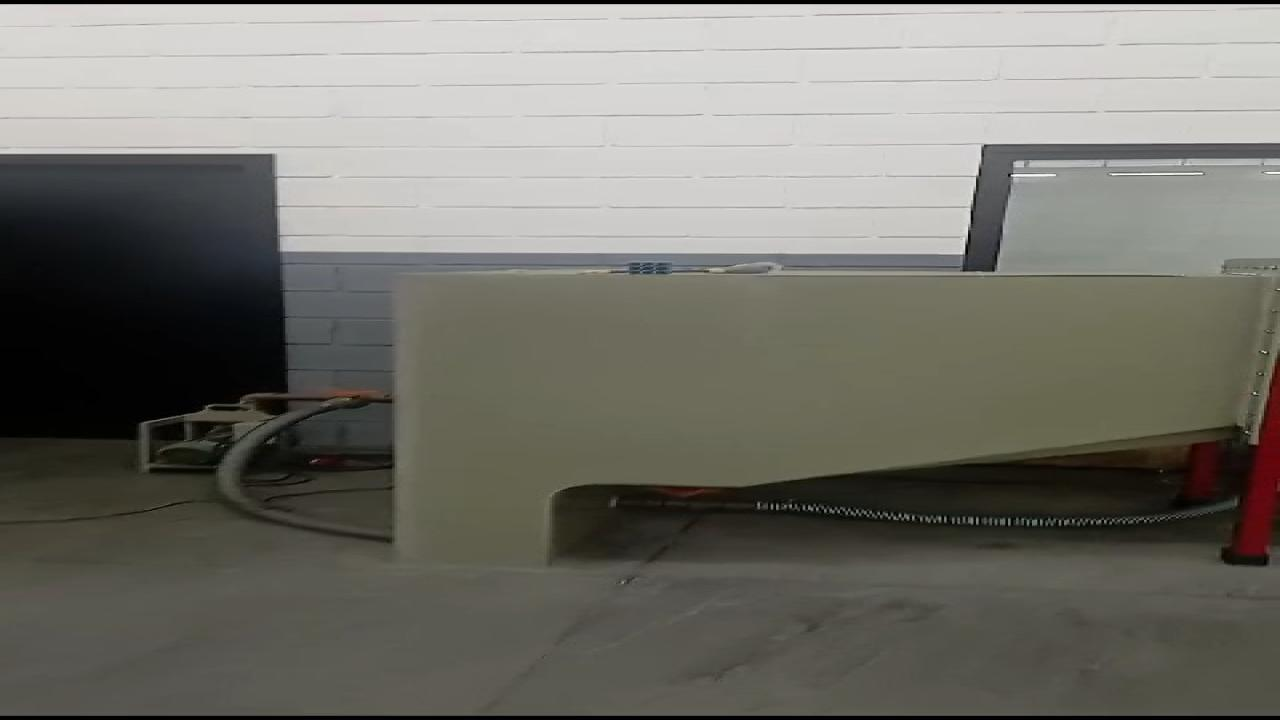Cube: (620, 261, 677, 278)
